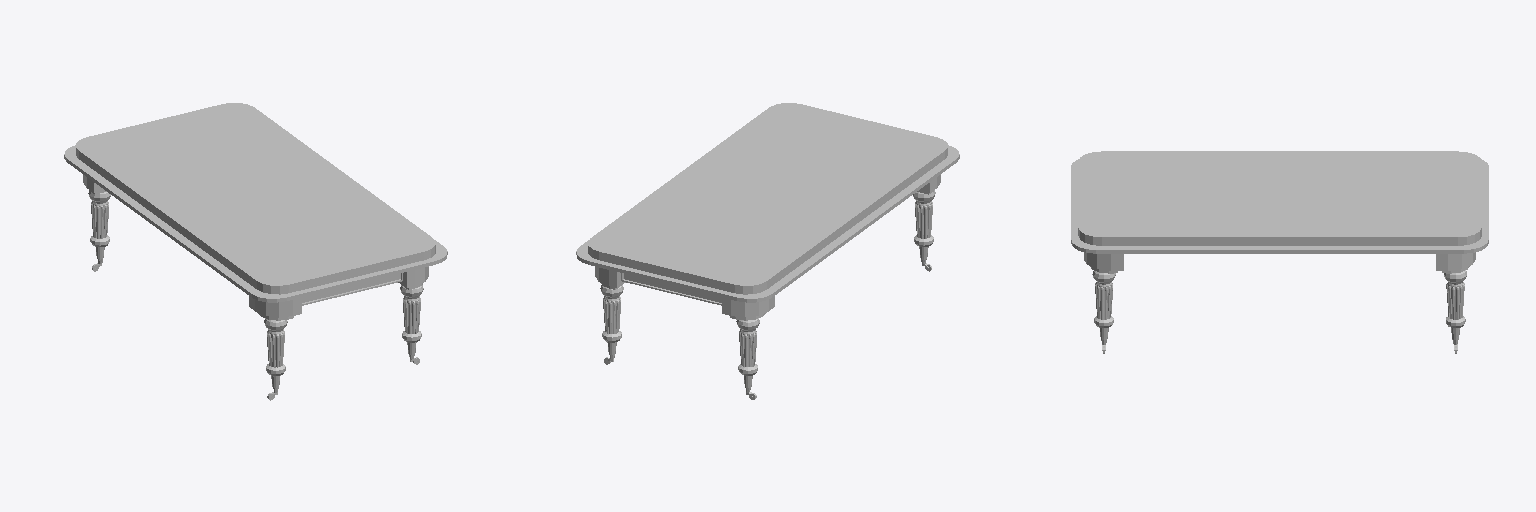
Rendered from table.obj.
The picture shows the model from 3 angles: view 1: azimuth 30°, elevation 25°; view 2: azimuth 150°, elevation 25°; view 3: azimuth 270°, elevation 25°; orthographic projection.
Parts seen in each view (by area): view 1: Export_Cube.013; view 2: Export_Cube.013; view 3: Export_Cube.013.
Boxes of the visible parts, x1,y1,x2,y2 form: Export_Cube.013: [64, 103, 447, 400]; Export_Cube.013: [576, 103, 959, 399]; Export_Cube.013: [1071, 151, 1488, 353].
Size of the model in its own units: 2.72 by 1.66 by 5.1.